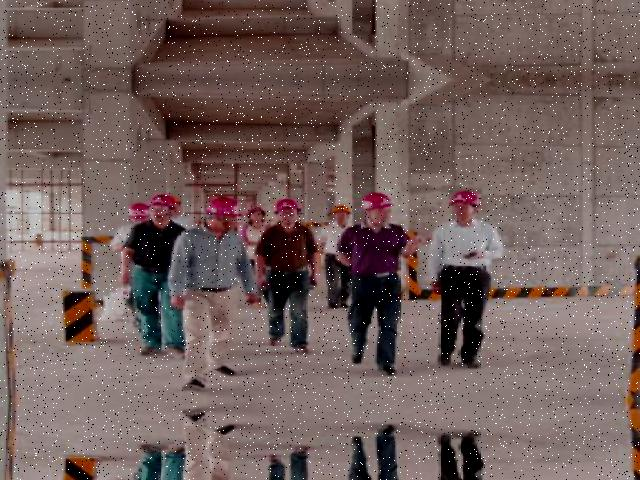Helmet: (198, 194, 244, 220), (356, 189, 395, 213), (443, 186, 483, 209), (143, 190, 176, 211), (270, 196, 300, 213)
